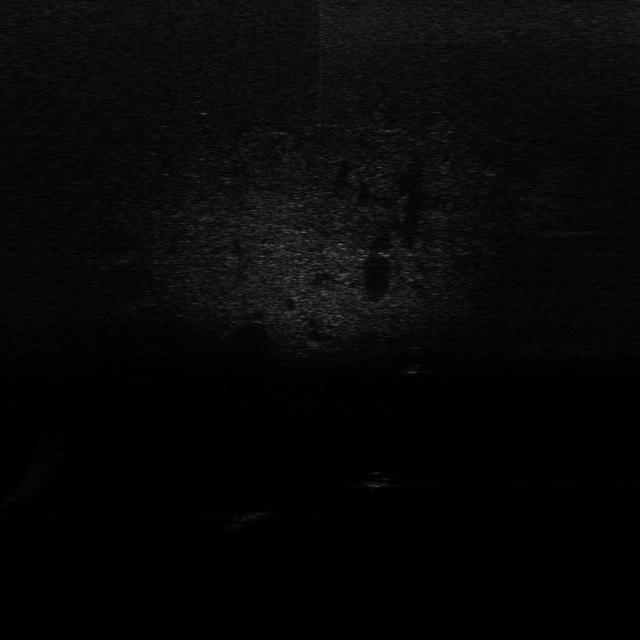ball: (360, 469, 396, 492)
square cage: (226, 502, 270, 525)
tyre: (401, 344, 433, 376)
